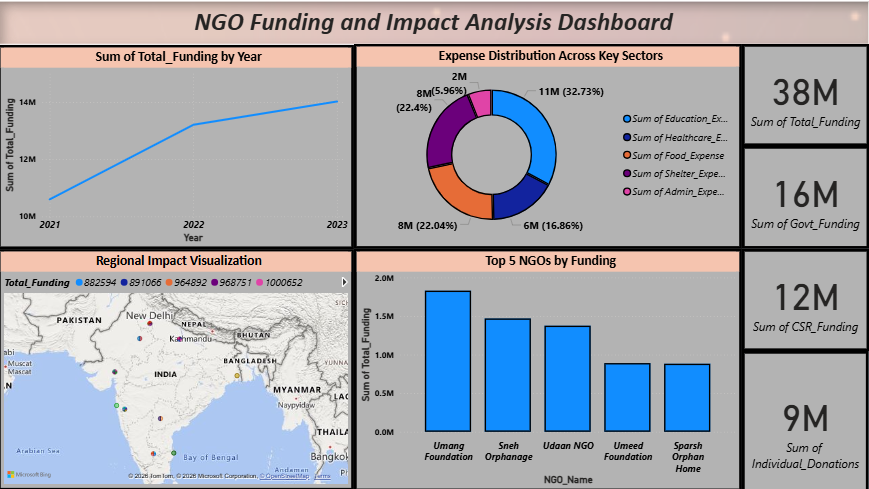

The dashboard page shown, as its layout file describes it:
{"tool":"powerbi","page":{"name":"Page 1","canvas":[1280,720],"ordinal":0},"visuals":[{"type":"textbox","box":[0,0,1280,63.8],"z":0},{"type":"card","fields":{"Values":["Sum(NGO_Funding_Analysis-checkpoint.Total_Funding)"]},"box":[1093.2,63.2,186.6,149.9],"z":1000},{"type":"card","fields":{"Values":["Sum(NGO_Funding_Analysis-checkpoint.Govt_Funding)"]},"box":[1093.2,213.1,186.6,151.3],"z":2000},{"type":"card","fields":{"Values":["Sum(NGO_Funding_Analysis-checkpoint.CSR_Funding)"]},"box":[1093.2,364.4,186.6,149.9],"z":3000},{"type":"card","fields":{"Values":["Sum(NGO_Funding_Analysis-checkpoint.Individual_Donations)"]},"box":[1093.5,514,186.5,206.6],"z":4000},{"type":"pieChart","title":"Expense Distribution Across Key Sectors","fields":{"Y":["Sum(NGO_Funding_Analysis-checkpoint.Education_Expense)","Sum(NGO_Funding_Analysis-checkpoint.Healthcare_Expense)","Sum(NGO_Funding_Analysis-checkpoint.Food_Expense)","Sum(NGO_Funding_Analysis-checkpoint.Shelter_Expense)","Sum(NGO_Funding_Analysis-checkpoint.Admin_Expense)"]},"box":[523.1,63.2,570.1,301.2],"z":5000},{"type":"columnChart","title":"Top 5 NGOs by Funding","fields":{"Category":["NGO_Funding_Analysis-checkpoint.NGO_Name"],"Y":["Sum(NGO_Funding_Analysis-checkpoint.Total_Funding)"]},"box":[523.1,364.4,570.1,355.6],"z":6000},{"type":"map","title":"Regional Impact Visualization","fields":{"Category":["NGO_Funding_Analysis-checkpoint.Region"],"Series":["NGO_Funding_Analysis-checkpoint.Total_Funding"]},"box":[0,365,523,355],"z":7000},{"type":"lineChart","fields":{"Category":["NGO_Funding_Analysis-checkpoint.Year"],"Y":["Sum(NGO_Funding_Analysis-checkpoint.Total_Funding)"]},"box":[0,64,523,300],"z":8000}]}

Visuals, with their boxes in screenshot pixels (x1, y1, x2, y2), scaled from the page's 1280x720 canvas onto the 869x489 screenshot:
textbox: left=0, top=0, right=868, bottom=43
card - Sum(NGO_Funding_Analysis-checkpoint.Total_Funding): left=742, top=43, right=868, bottom=145
card - Sum(NGO_Funding_Analysis-checkpoint.Govt_Funding): left=742, top=145, right=868, bottom=247
card - Sum(NGO_Funding_Analysis-checkpoint.CSR_Funding): left=742, top=247, right=868, bottom=349
card - Sum(NGO_Funding_Analysis-checkpoint.Individual_Donations): left=742, top=349, right=868, bottom=488
"Expense Distribution Across Key Sectors" pieChart: left=355, top=43, right=742, bottom=247
"Top 5 NGOs by Funding" columnChart: left=355, top=247, right=742, bottom=488
"Regional Impact Visualization" map: left=0, top=248, right=355, bottom=488
lineChart - NGO_Funding_Analysis-checkpoint.Year x Sum(NGO_Funding_Analysis-checkpoint.Total_Funding): left=0, top=43, right=355, bottom=247
